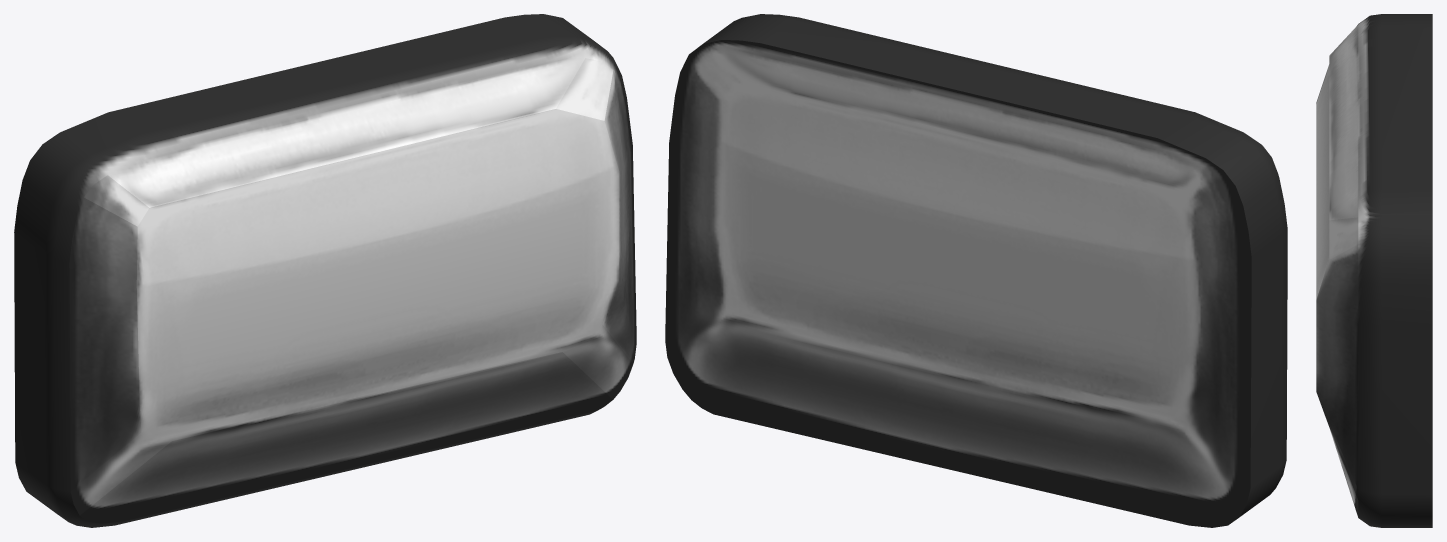
File: 3D_Button.fbx
3 views of the same model, side by side, from view 1: azimuth 30°, elevation 25°; view 2: azimuth 150°, elevation 25°; view 3: azimuth 270°, elevation 25° (orthographic). The views are drawn at different scales.
Visible parts, largest first — view 1: Button; view 2: Button; view 3: Button.
Boxes of the visible parts, x1,y1,x2,y2 form: Button: (14, 14, 636, 527); Button: (665, 14, 1287, 527); Button: (1316, 14, 1432, 527).
Size of the model in its own units: 12.96 by 8.12 by 2.69.
